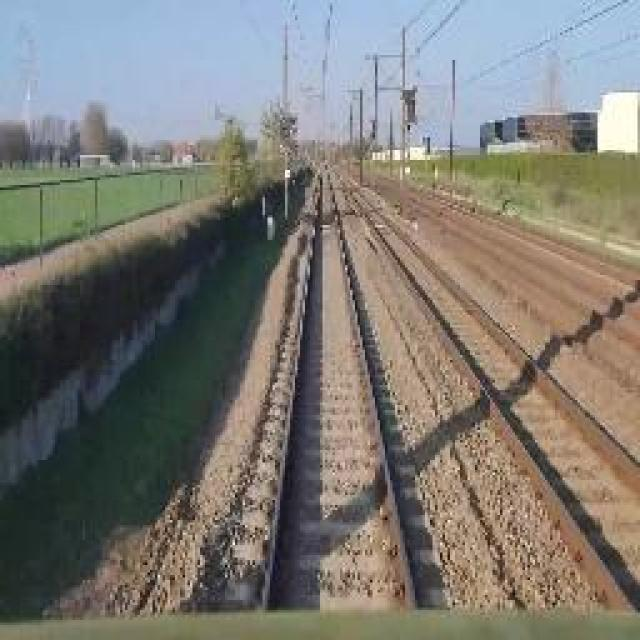rail: (221, 158, 640, 614)
